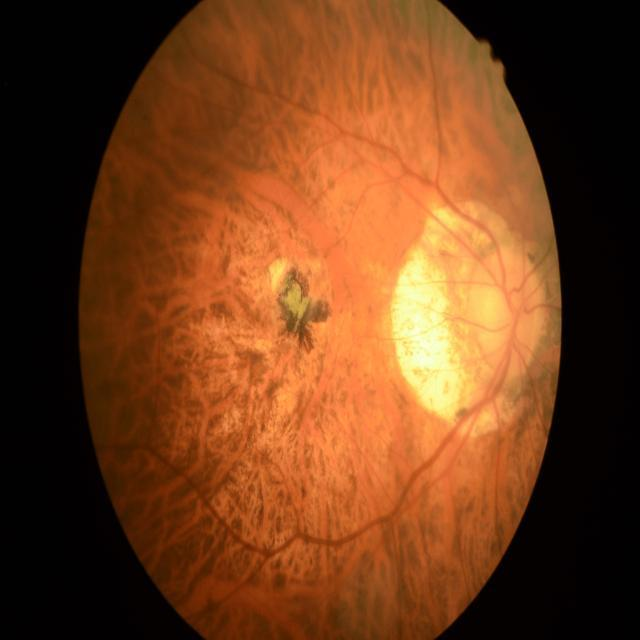cup: (489, 288, 522, 352)
disk: (471, 246, 539, 376)
